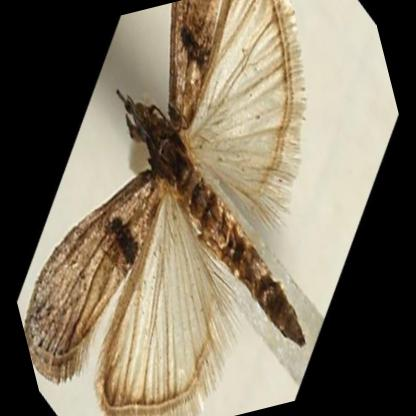Leaf Webber: (24, 0, 311, 416)
